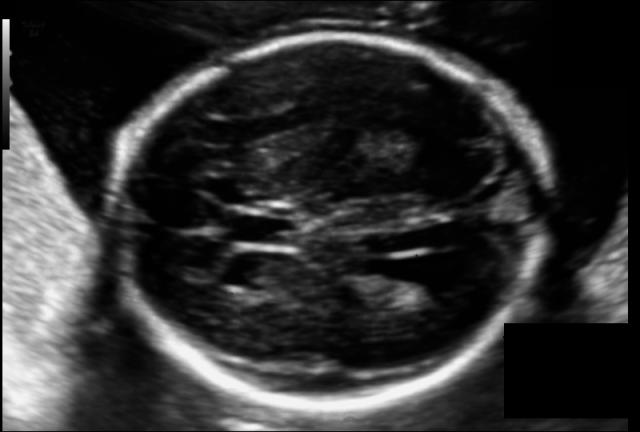CHOROID_PLEXUS: (336, 265, 446, 331)
CSP: (176, 171, 253, 283)
MIDLINE_FALX: (163, 182, 548, 292)
